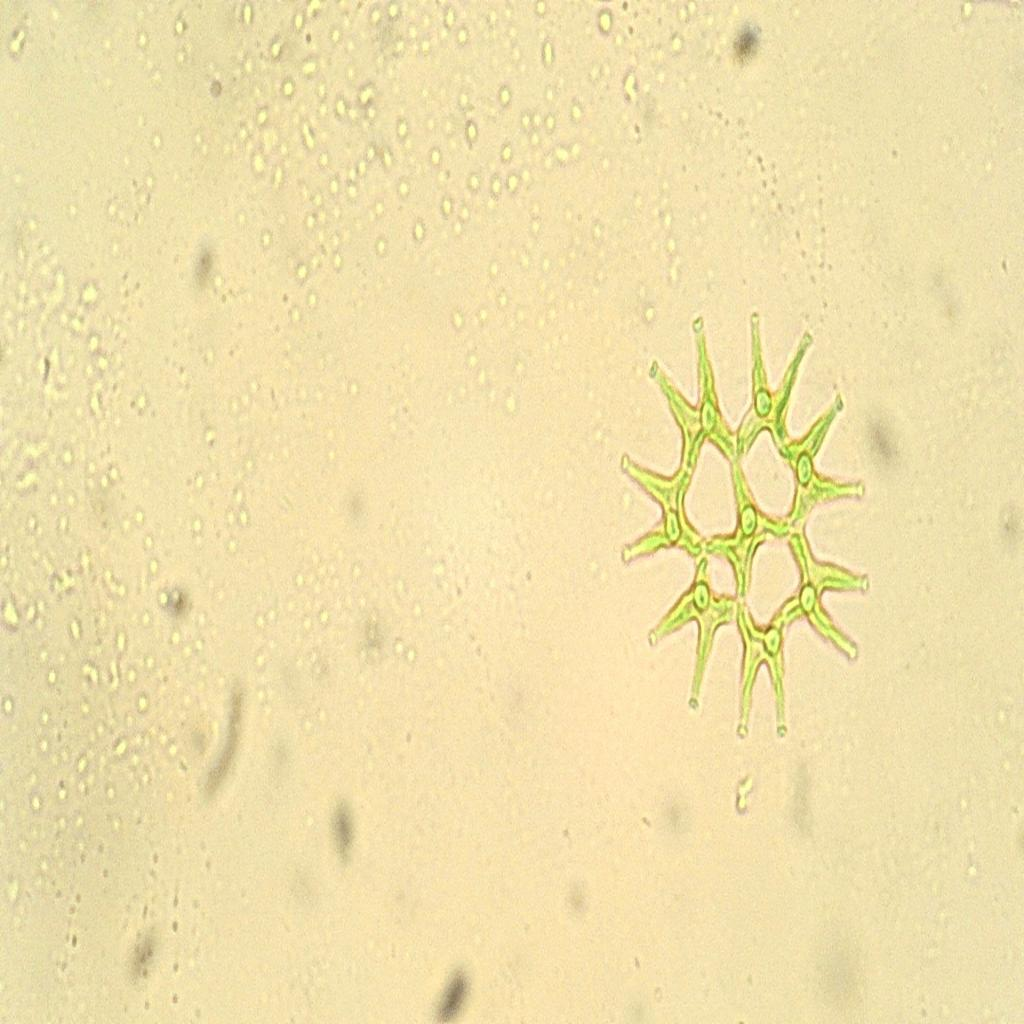Pediastrum_CTH: (610, 295, 884, 758)
